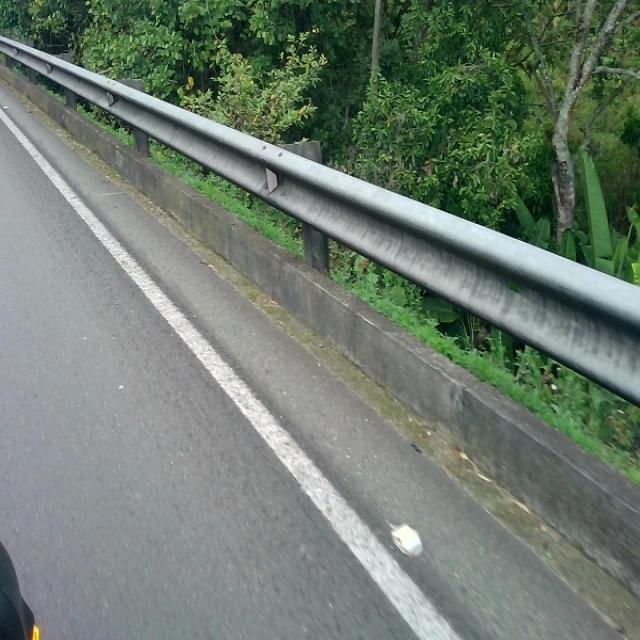DITCH: (1, 51, 638, 638), (1, 80, 638, 638)
